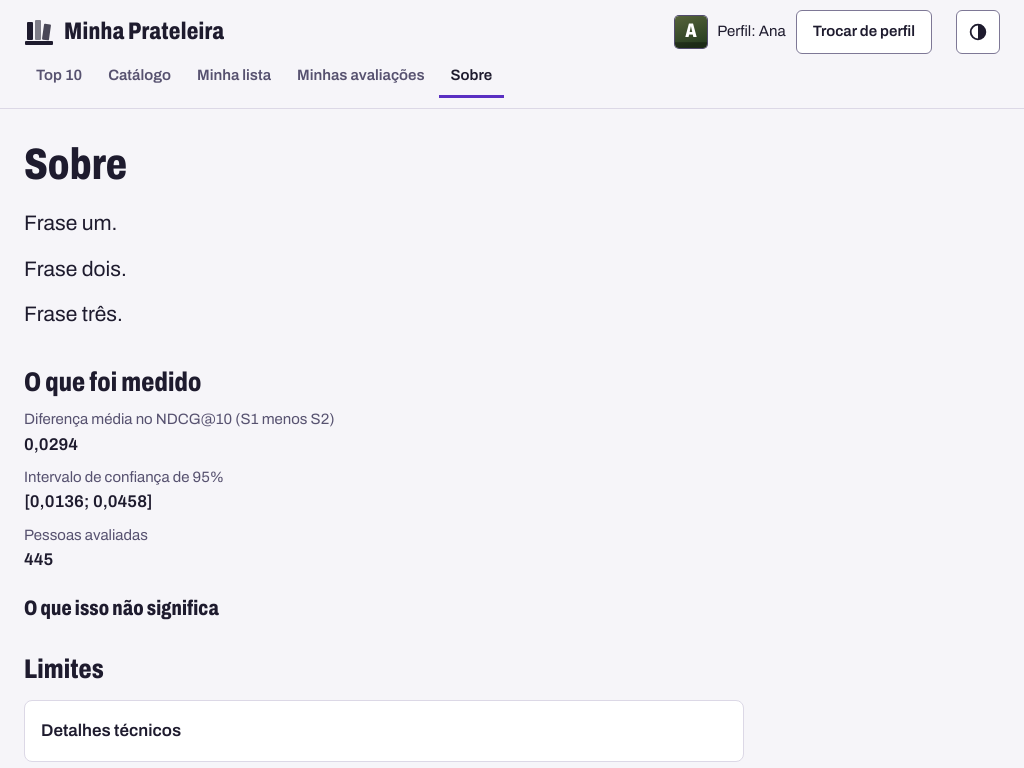
Test: App › "Trocar de perfil" em /sobre leva a "Quem está usando?"
The image size is (1024, 768).
Expected: the text "Frase um." is shown, left=24, top=212, right=117, bottom=234
What coordinates should you click on to do the following:
click the button "Trocar de perfil"
I would click on:
 (864, 32)
Its box is left=796, top=10, right=932, bottom=54.
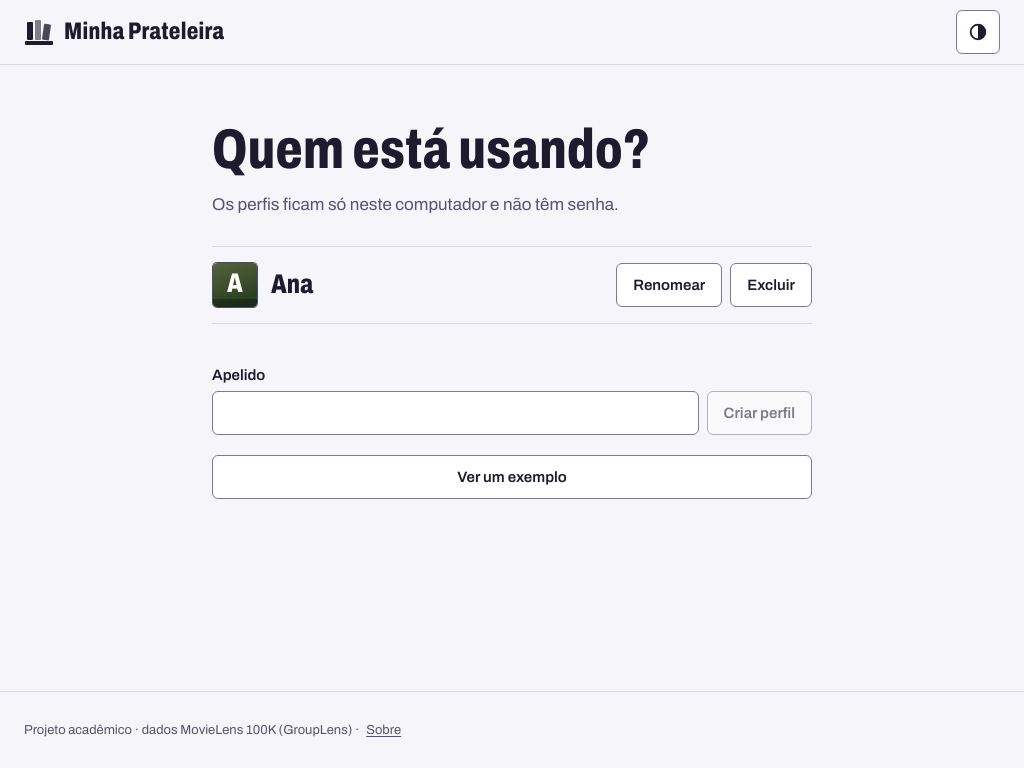
Now the heading "Quem está usando?" is shown, box left=212, top=119, right=650, bottom=180
Now the text "Frase um." is gone
